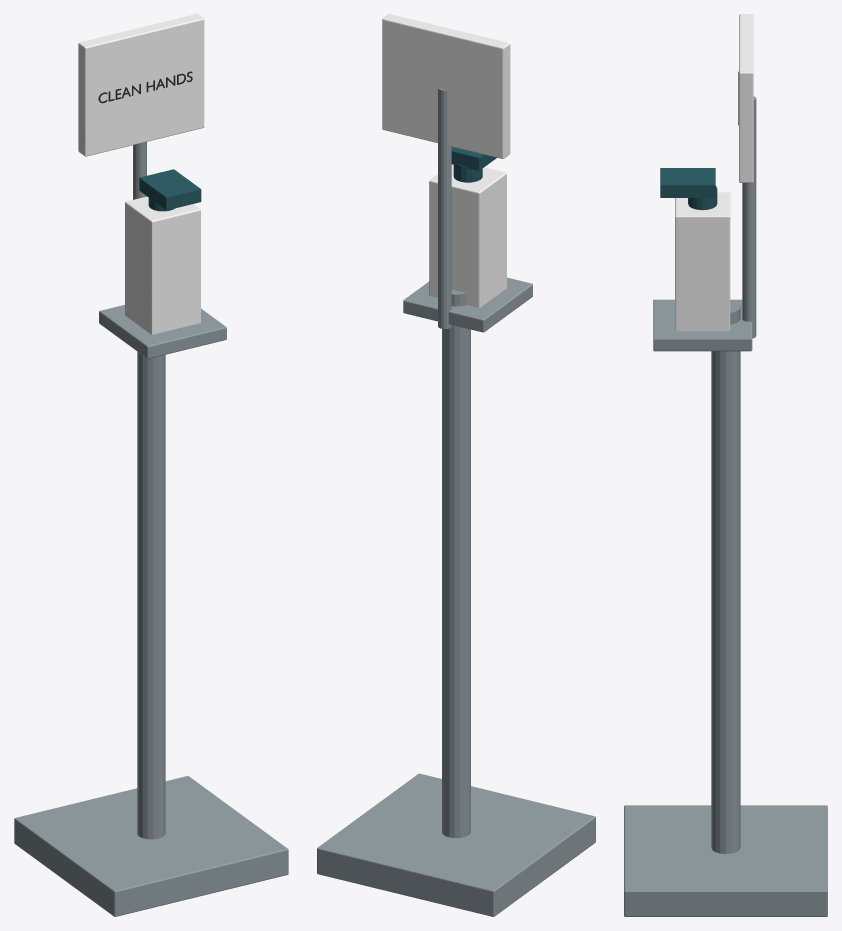
Rendered from hand-sanitizer-stand.glb.
3 renders of one model, left to right at view 1: azimuth 30°, elevation 25°; view 2: azimuth 150°, elevation 25°; view 3: azimuth 270°, elevation 25°, orthographic.
Visible parts, largest first — view 1: Base, Sign, Stem, Bottle, Bottle_Shelf, Pump_Head, Sign_Support; view 2: Base, Stem, Sign, Bottle, Sign_Support, Bottle_Shelf, Pump_Head; view 3: Base, Stem, Bottle, Bottle_Shelf, Sign, Sign_Support, Pump_Head.
Part boxes in pixels (bbox=[...]): Base: bbox=[14, 776, 288, 916]; Sign: bbox=[78, 14, 204, 156]; Stem: bbox=[137, 352, 165, 839]; Bottle: bbox=[125, 196, 200, 334]; Bottle_Shelf: bbox=[99, 305, 226, 358]; Pump_Head: bbox=[139, 169, 201, 210]; Sign_Support: bbox=[133, 142, 146, 199]; Base: bbox=[317, 773, 595, 916]; Stem: bbox=[442, 289, 470, 837]; Sign: bbox=[382, 14, 510, 158]; Bottle: bbox=[429, 164, 506, 307]; Sign_Support: bbox=[438, 88, 451, 328]; Bottle_Shelf: bbox=[403, 277, 532, 332]; Pump_Head: bbox=[451, 146, 496, 170]; Base: bbox=[624, 805, 827, 916]; Stem: bbox=[711, 301, 740, 853]; Bottle: bbox=[675, 192, 730, 331]; Bottle_Shelf: bbox=[653, 299, 752, 351]; Sign: bbox=[739, 14, 753, 182]; Sign_Support: bbox=[742, 96, 756, 338]; Pump_Head: bbox=[660, 168, 715, 197].
Size of the model in its own units: 0.35 by 1.58 by 0.35.
